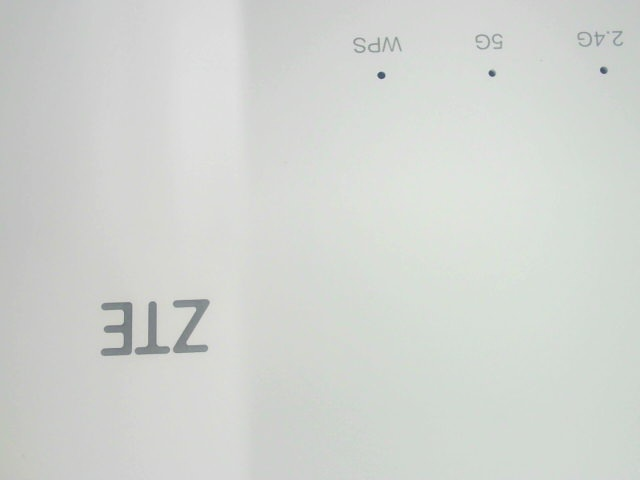AN_ZTE: (94, 295, 213, 364)
